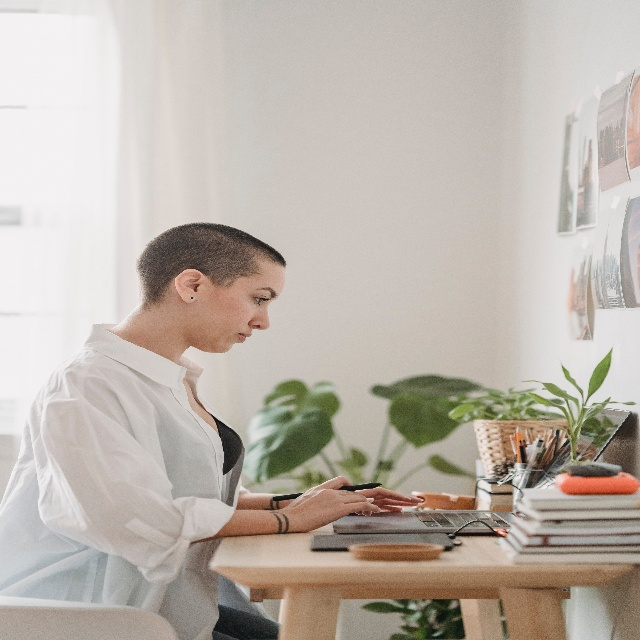Sin_guantes: (288, 478, 381, 533), (355, 487, 424, 518)
